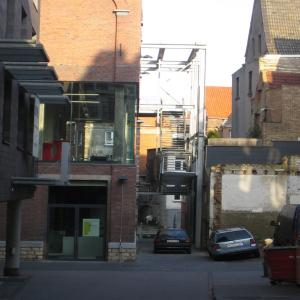Vehicle-registration-plate: (228, 243, 245, 249), (167, 240, 179, 242)
